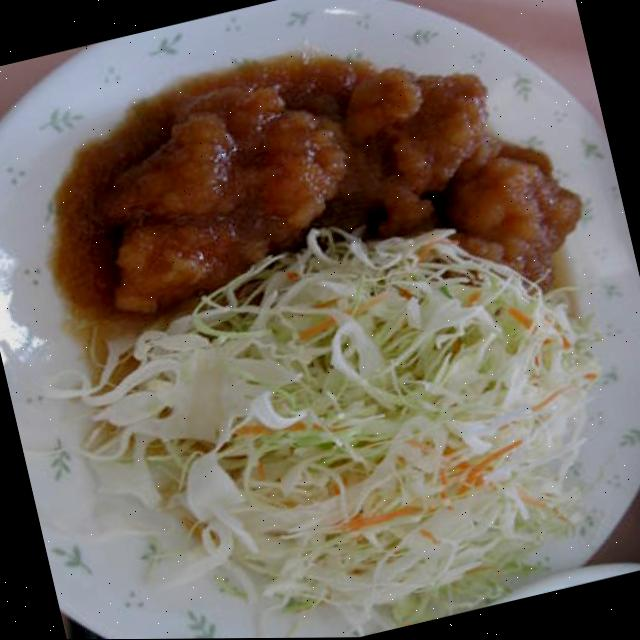蔬菜料理: (51, 171, 640, 640)
鸡肉料理 含炸鸡: (40, 0, 611, 380)
